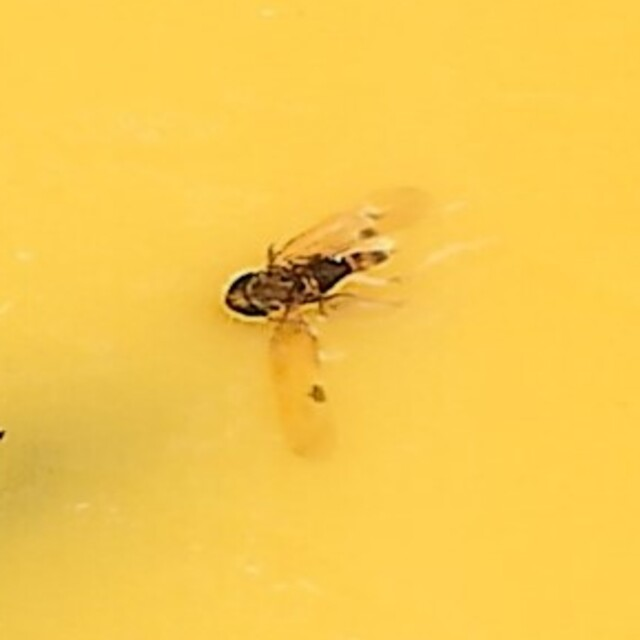Hemiptera: (221, 190, 419, 450)
